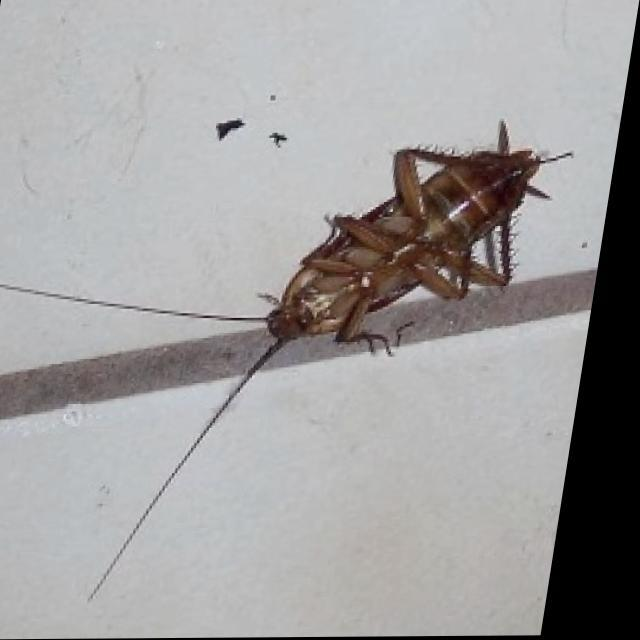cockroach: (229, 96, 596, 382)
